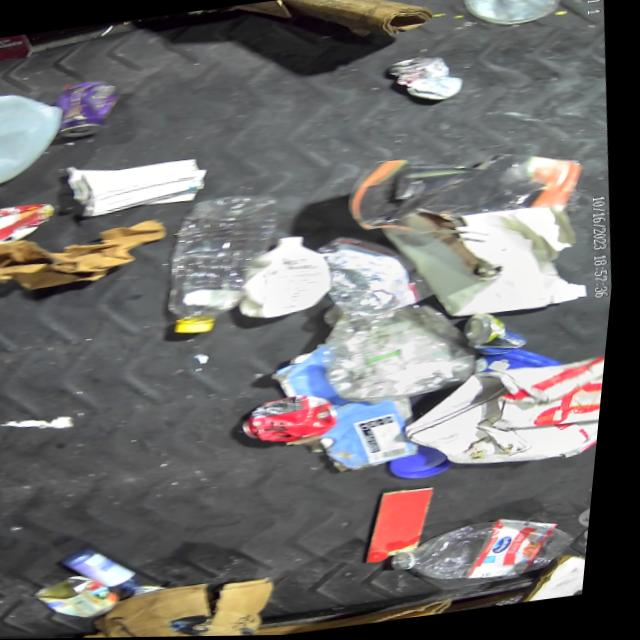can: (245, 391, 348, 447), (42, 570, 137, 625), (51, 76, 128, 139), (385, 52, 468, 106), (466, 306, 542, 355)
milk_jug: (236, 230, 344, 322), (0, 86, 76, 204)
non_white_jug: (271, 336, 431, 481)
plastic_bottle: (159, 189, 302, 337), (399, 512, 590, 592)
